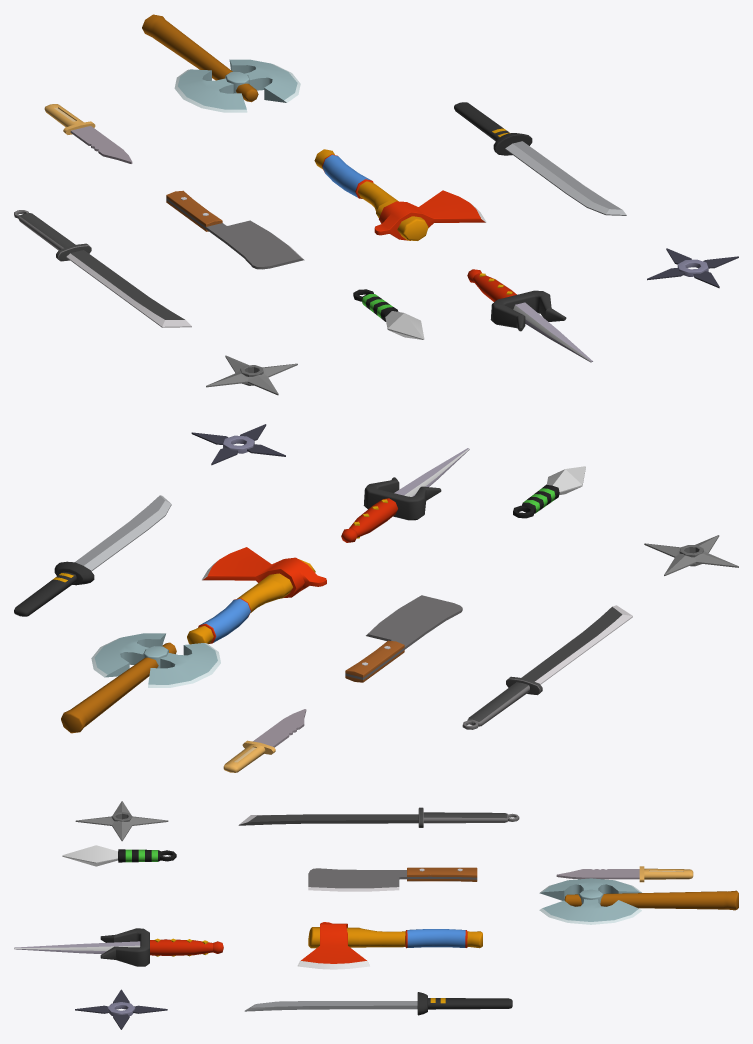
Rendered from Weapons.fbx.
The picture shows the model from 3 angles, top to bottom: view 1: azimuth 30°, elevation 25°; view 2: azimuth 150°, elevation 25°; view 3: azimuth 270°, elevation 25°; orthographic projection. The views are drawn at different scales.
Parts seen in each view (by area): view 1: Axe_weapon, Butcher_knife2, Butcher_knife1, Knife4, Knife2, Knife3, Knife1, Spear, Disc2, Disc1; view 2: Axe_weapon, Butcher_knife2, Butcher_knife1, Knife2, Knife4, Knife3, Knife1, Spear, Disc2, Disc1; view 3: Axe_weapon, Butcher_knife2, Knife3, Butcher_knife1, Knife2, Knife4, Spear, Knife1, Disc2, Disc1.
Part boxes in pixels (x1,y1,x2,y2): Axe_weapon: [142, 14, 300, 112]; Butcher_knife2: [314, 149, 486, 240]; Butcher_knife1: [166, 190, 304, 269]; Knife4: [454, 102, 626, 215]; Knife2: [14, 210, 191, 327]; Knife3: [467, 269, 592, 362]; Knife1: [44, 104, 132, 163]; Spear: [353, 289, 424, 339]; Disc2: [206, 355, 297, 395]; Disc1: [647, 248, 738, 288]; Axe_weapon: [61, 633, 220, 733]; Butcher_knife2: [187, 547, 326, 644]; Butcher_knife1: [345, 595, 462, 682]; Knife2: [462, 605, 632, 729]; Knife4: [14, 495, 171, 616]; Knife3: [341, 448, 469, 542]; Knife1: [223, 709, 306, 772]; Spear: [513, 466, 585, 518]; Disc2: [644, 535, 738, 575]; Disc1: [191, 424, 285, 465]; Axe_weapon: [539, 878, 738, 924]; Butcher_knife2: [297, 922, 482, 969]; Knife3: [14, 928, 223, 966]; Butcher_knife1: [308, 867, 477, 891]; Knife2: [238, 807, 519, 827]; Knife4: [244, 992, 512, 1015]; Spear: [62, 845, 176, 866]; Knife1: [556, 866, 693, 882]; Disc2: [75, 801, 168, 841]; Disc1: [75, 989, 167, 1029].
Size of the model in its own units: 207 by 22.79 by 279.
